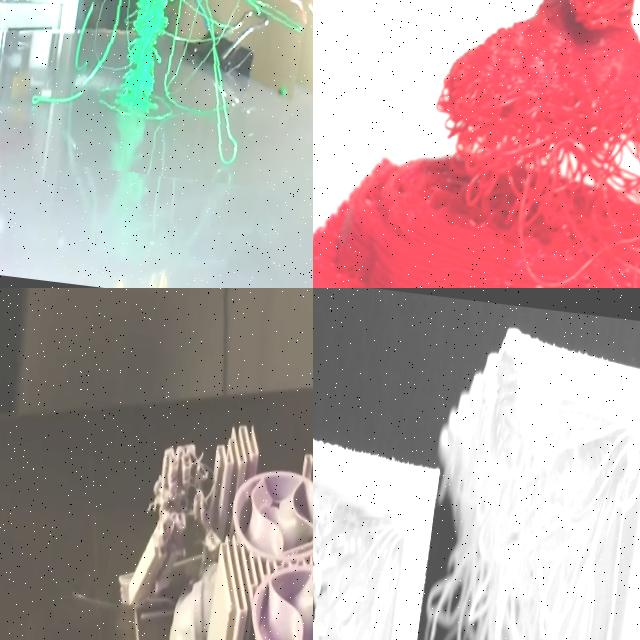spaghetti: (398, 417, 640, 640), (73, 0, 313, 191), (422, 103, 640, 288), (313, 487, 411, 640)
